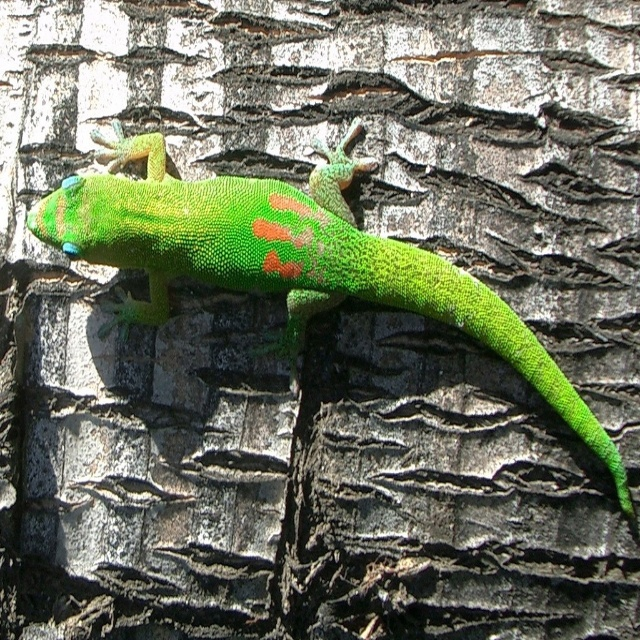Lizard: (54, 135, 640, 501)
